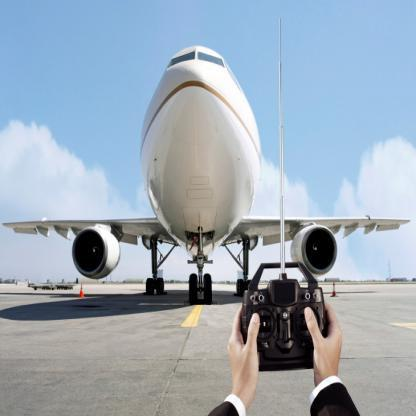CIV_Plane: (1, 18, 412, 314)
